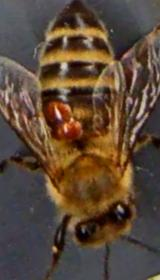varroa_mite: (52, 115, 92, 146), (39, 102, 73, 128)
